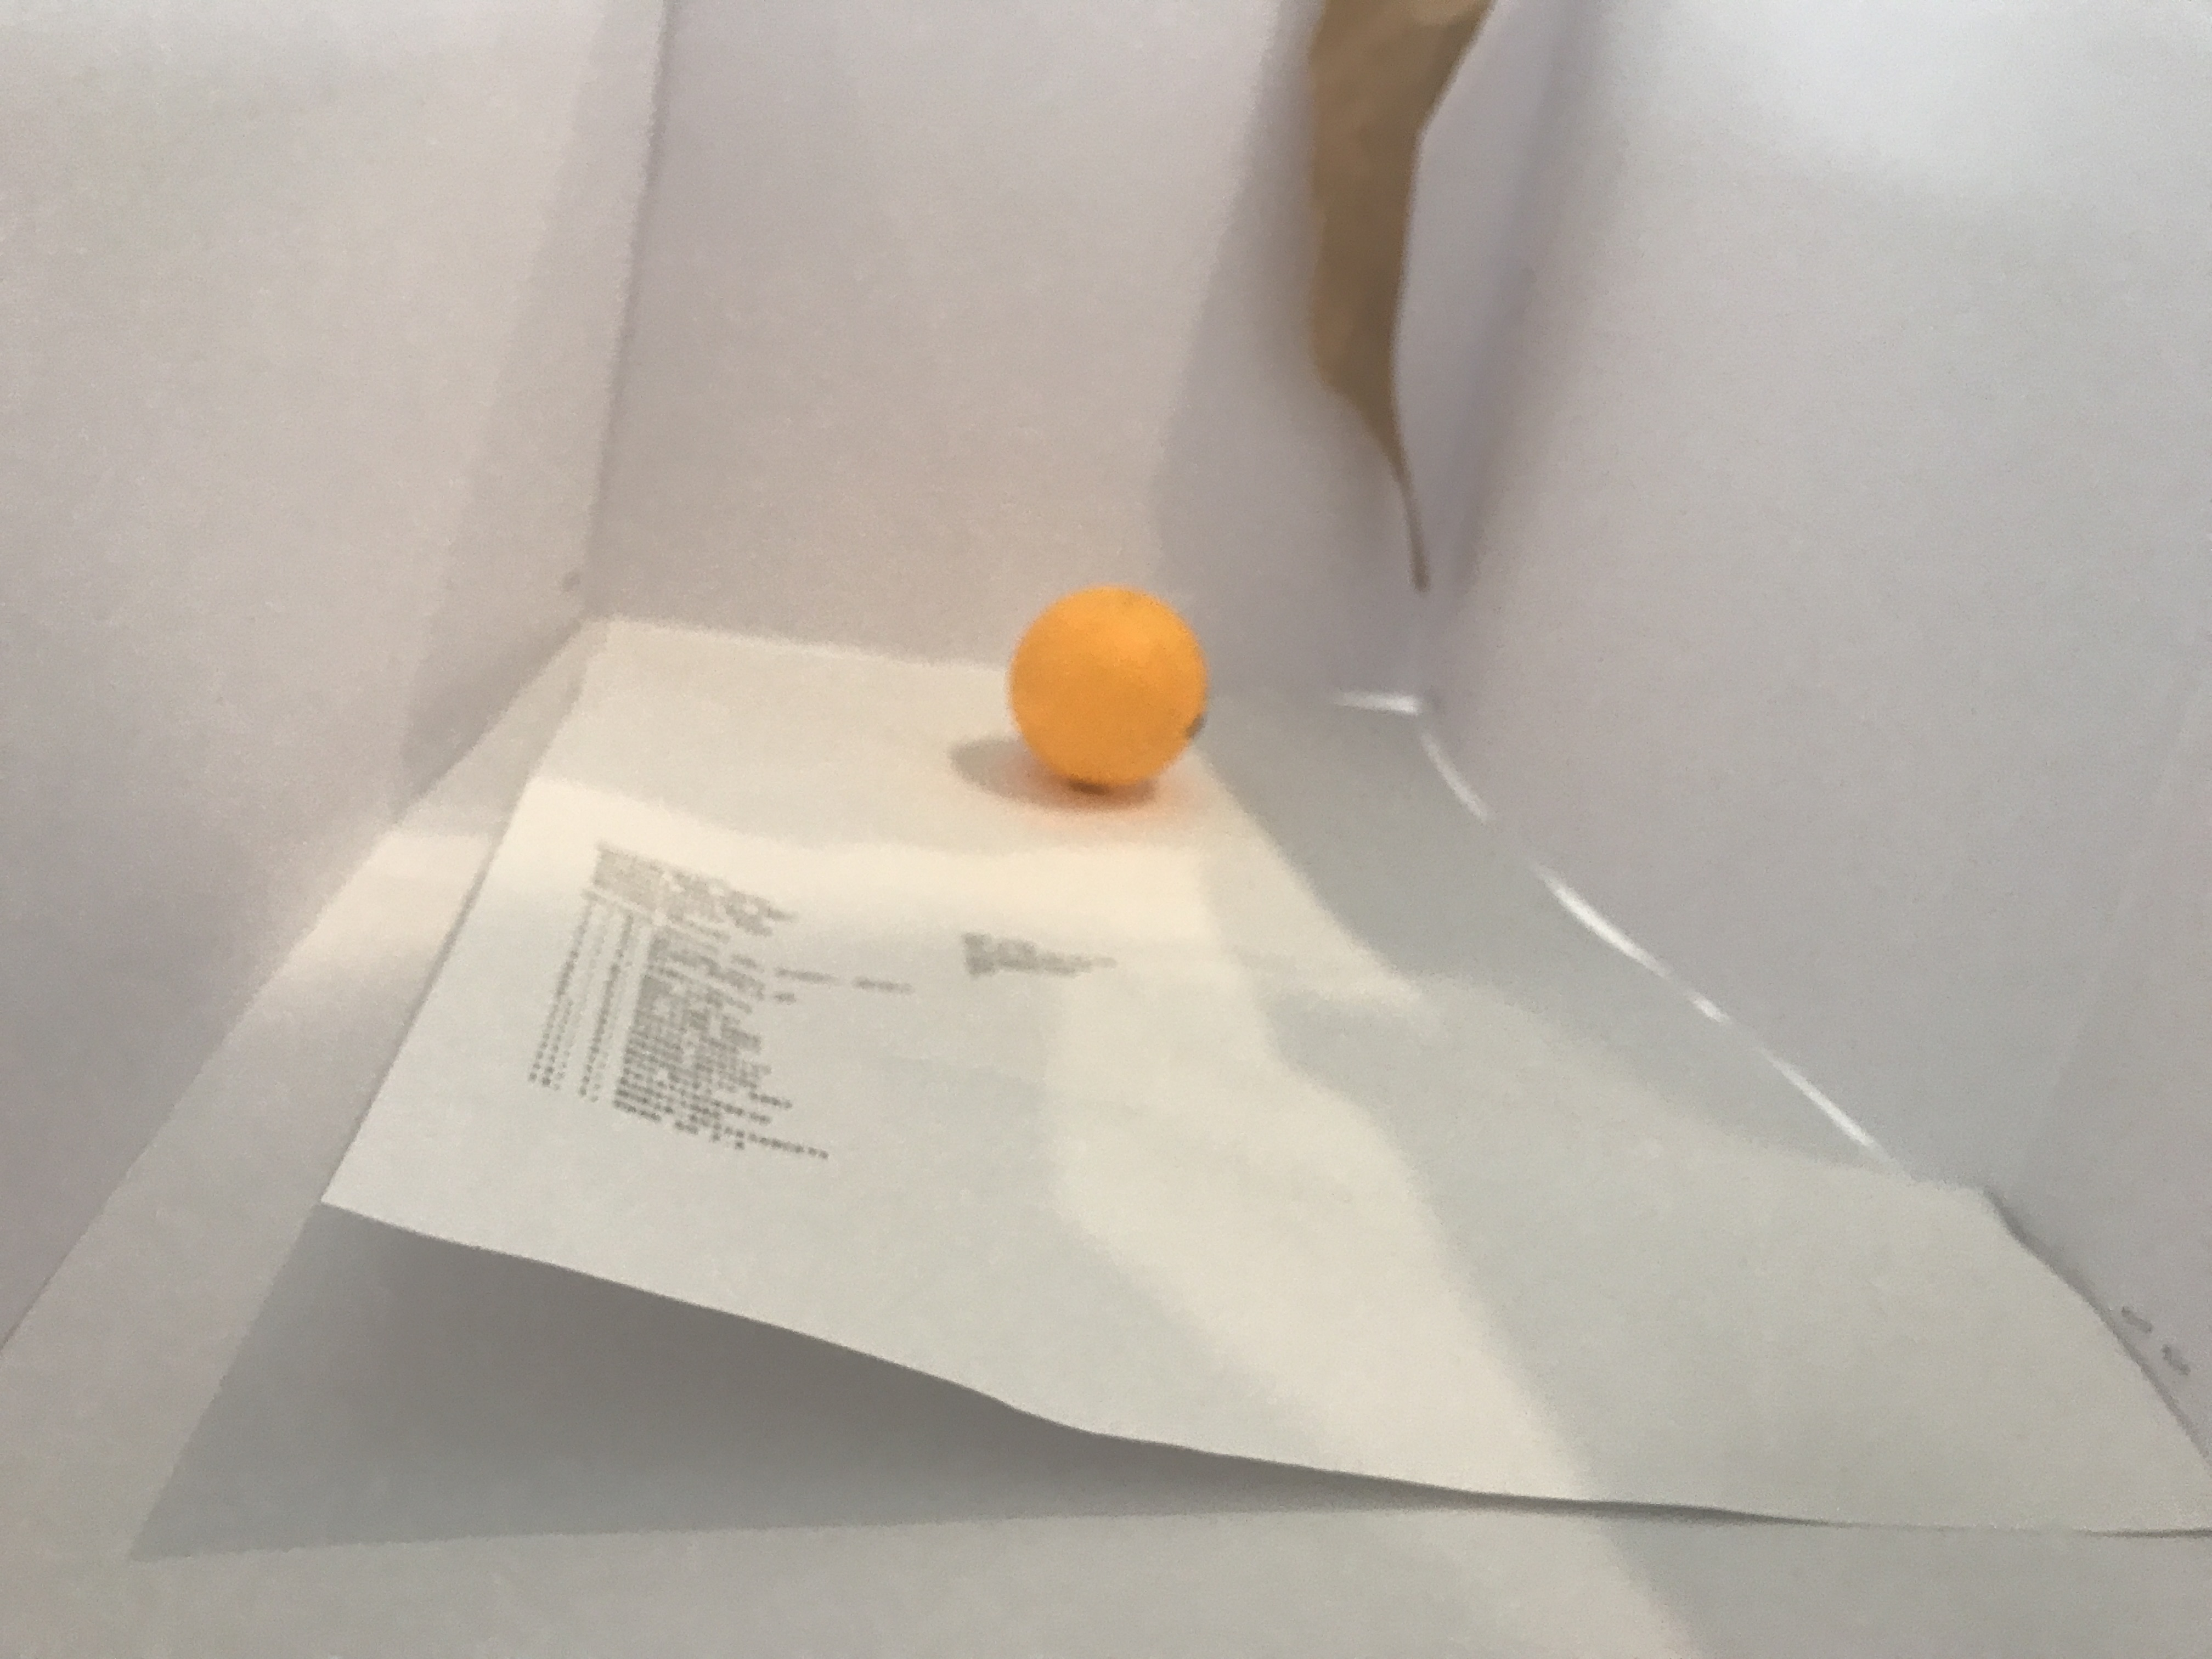pp: (1014, 586, 1205, 793)
